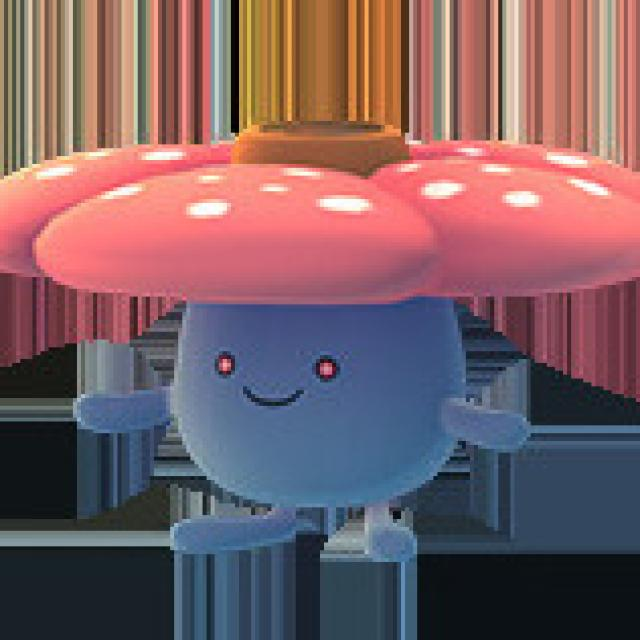Vileplume: (124, 112, 534, 570)
